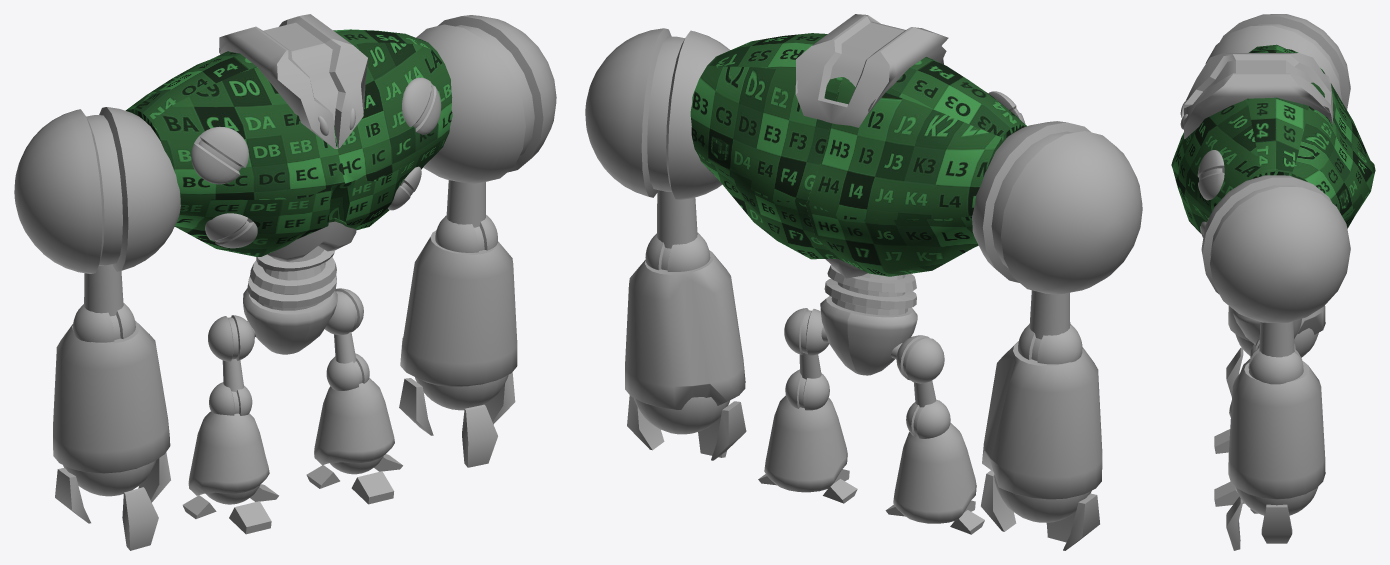
File: Robot Torso Textured.fbx
3 views of the same model, side by side, from view 1: azimuth 30°, elevation 25°; view 2: azimuth 150°, elevation 25°; view 3: azimuth 270°, elevation 25° (orthographic). The views are drawn at different scales.
Parts seen in each view (by area): view 1: Body2, Shoulder_Right, Shoulder_Left, Forearm_Left, Forearm_Right, Head, Calve_Right, Calve_Left, Robot_Group_Torso_Group_Waist2, Robot_Group1_Torso_Group_Crotch_Piece2, Screw_Right_Top, Elbow_Right (+21 smaller); view 2: Body2, Shoulder_Right, Shoulder_Left, Forearm_Left, Forearm_Right, Head, Calve_Right, Calve_Left, Robot_Group1_Torso_Group_Crotch_Piece2, Robot_Group_Torso_Group_Waist2, Hand_Left, Bicep_Left (+12 smaller); view 3: Shoulder_Left, Body2, Forearm_Left, Head, Shoulder_Right, Elbow_Left, Bicep_Left, Screw_Left_Top, Claw_03_Left, Hand_Left, Forearm_Right, Hand_Right (+5 smaller).
Part boxes in pixels (x1=…): Body2: x1=125, y1=29, x2=452, y2=256; Shoulder_Right: x1=14, y1=107, x2=180, y2=273; Shoulder_Left: x1=416, y1=15, x2=556, y2=183; Forearm_Left: x1=400, y1=230, x2=517, y2=386; Forearm_Right: x1=53, y1=320, x2=170, y2=473; Head: x1=219, y1=14, x2=367, y2=148; Calve_Right: x1=188, y1=411, x2=269, y2=495; Calve_Left: x1=314, y1=378, x2=394, y2=465; Robot_Group_Torso_Group_Waist2: x1=247, y1=246, x2=336, y2=310; Robot_Group1_Torso_Group_Crotch_Piece2: x1=243, y1=288, x2=337, y2=354; Screw_Right_Top: x1=191, y1=126, x2=248, y2=184; Elbow_Right: x1=73, y1=302, x2=135, y2=342; Body2: x1=690, y1=33, x2=1026, y2=276; Shoulder_Right: x1=972, y1=121, x2=1142, y2=294; Shoulder_Left: x1=585, y1=28, x2=730, y2=200; Forearm_Left: x1=625, y1=250, x2=745, y2=409; Forearm_Right: x1=982, y1=341, x2=1102, y2=499; Head: x1=795, y1=14, x2=948, y2=127; Calve_Right: x1=893, y1=422, x2=976, y2=523; Calve_Left: x1=764, y1=395, x2=847, y2=492; Robot_Group1_Torso_Group_Crotch_Piece2: x1=820, y1=296, x2=917, y2=375; Robot_Group_Torso_Group_Waist2: x1=824, y1=265, x2=916, y2=315; Hand_Left: x1=634, y1=397, x2=729, y2=434; Bicep_Left: x1=657, y1=190, x2=697, y2=248; Shoulder_Left: x1=1201, y1=175, x2=1350, y2=322; Body2: x1=1171, y1=44, x2=1375, y2=233; Forearm_Left: x1=1228, y1=361, x2=1325, y2=499; Head: x1=1184, y1=53, x2=1333, y2=138; Shoulder_Right: x1=1205, y1=14, x2=1350, y2=109; Elbow_Left: x1=1248, y1=347, x2=1303, y2=384; Bicep_Left: x1=1259, y1=321, x2=1294, y2=357; Screw_Left_Top: x1=1197, y1=150, x2=1224, y2=200; Claw_03_Left: x1=1261, y1=504, x2=1292, y2=543; Hand_Left: x1=1235, y1=487, x2=1317, y2=515; Forearm_Right: x1=1228, y1=305, x2=1325, y2=341; Hand_Right: x1=1235, y1=328, x2=1318, y2=357.
Bounding box in the file's own units: 17.39 × 14.85 × 6.69.
2 materials, 1 textured.
